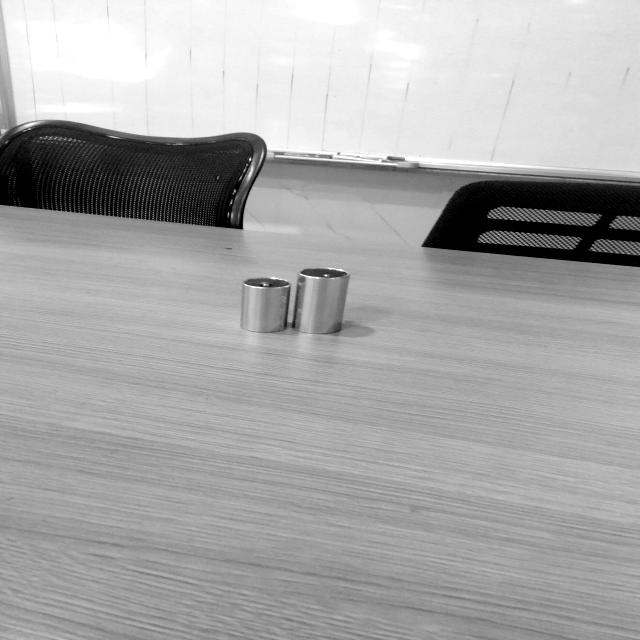Co_Lon: (290, 263, 350, 338)
Co_Nho: (238, 275, 291, 335)
